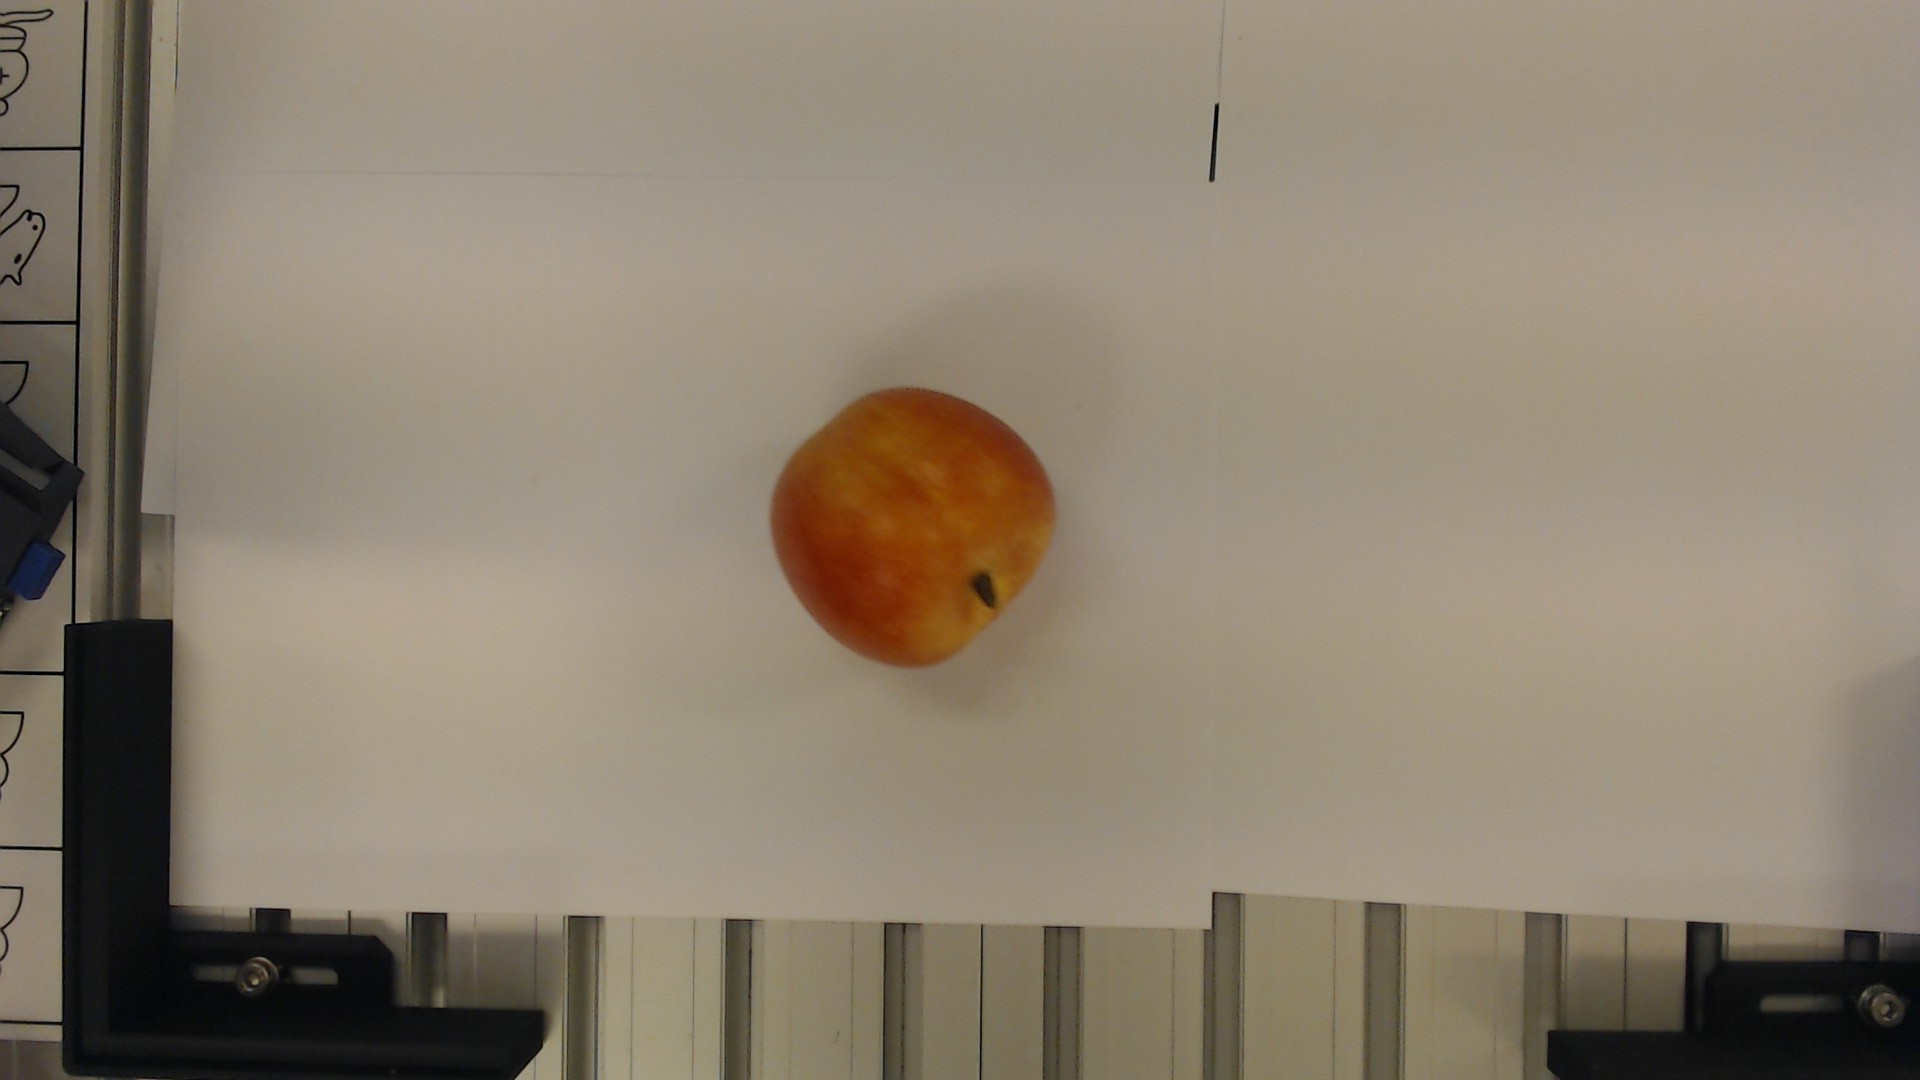Peach: (760, 385, 1065, 676)
